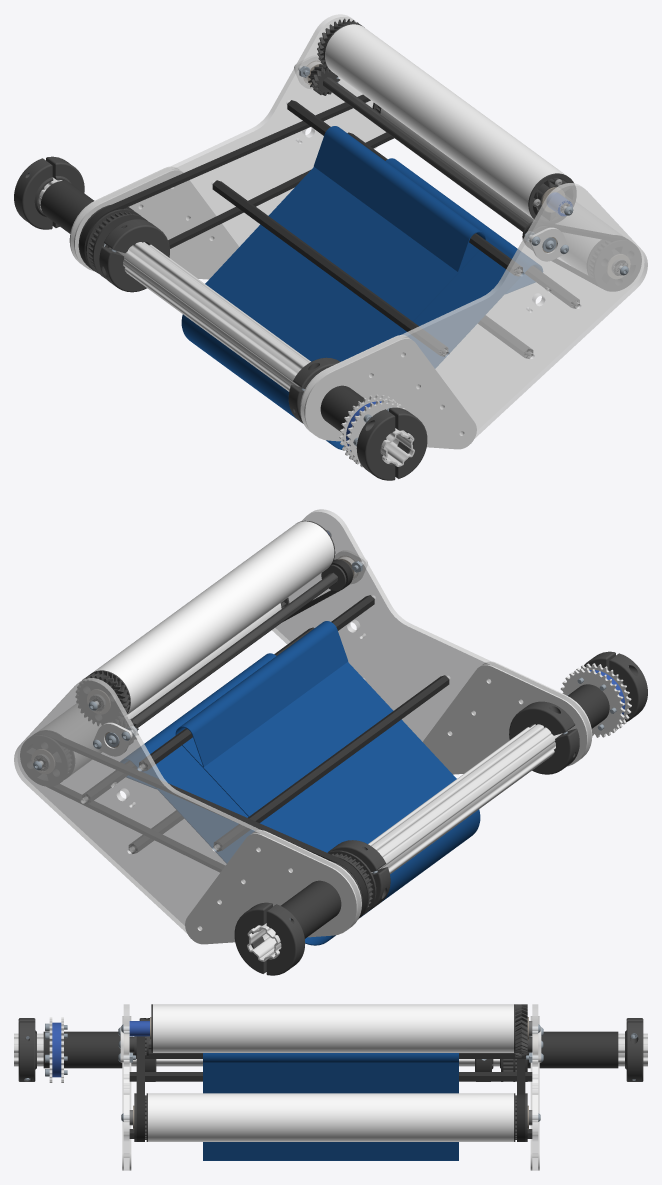
3 views of the same model, one above another, from view 1: azimuth 30°, elevation 25°; view 2: azimuth 150°, elevation 25°; view 3: azimuth 270°, elevation 25° (orthographic). The views are drawn at different scales.
Parts seen in each view (by area): view 1: Fabric Retainer, Side plate (×2), Reinforcement Plates (×4), Cylinder Roller 2, MAXSpline Shaft 26", 3D Printed Shaft Collar (×6), Shaft (×4), 160t 5mm Belt, 3/8" ThunderHex - 17.125", Cylinder Roller 1, Spacer (Configurable) (×3), 217-9038-004public (+5 smaller); view 2: Fabric Retainer, Side plate (×2), Reinforcement Plates (×4), Cylinder Roller 2, MAXSpline Shaft 26", 3D Printed Shaft Collar (×6), Shaft (×3), 160t 5mm Belt, 3/8" ThunderHex - 17.125", Cylinder Roller 1, Spacer (Configurable) (×3), Printing Jan 29 Roller gear (+4 smaller); view 3: Cylinder Roller 1, Cylinder Roller 2, Fabric Retainer, Spacer (Configurable) (×6), Side plate (×2), 3D Printed Shaft Collar (×2), Shaft (×2), MAXSpline Shaft 26", 60t 5mm Belt, 160t 5mm Belt, Printing Jan 29 Roller gear, Part 2 (+2 smaller).
Part boxes in pixels (bbox=[...]): Fabric Retainer: bbox=[181, 126, 542, 449]; Side plate (×2): bbox=[70, 14, 647, 438]; Reinforcement Plates (×4): bbox=[69, 166, 476, 449]; Cylinder Roller 2: bbox=[325, 24, 566, 219]; MAXSpline Shaft 26": bbox=[38, 177, 414, 466]; 3D Printed Shaft Collar (×6): bbox=[14, 156, 427, 480]; Shaft (×4): bbox=[212, 100, 579, 358]; 160t 5mm Belt: bbox=[79, 94, 394, 272]; 3/8" ThunderHex - 17.125": bbox=[323, 77, 529, 231]; Cylinder Roller 1: bbox=[380, 108, 621, 274]; Spacer (Configurable) (×3): bbox=[44, 183, 361, 429]; 217-9038-004public: bbox=[589, 240, 641, 291]; Fabric Retainer: bbox=[120, 621, 480, 945]; Side plate (×2): bbox=[14, 509, 591, 933]; Reinforcement Plates (×4): bbox=[185, 661, 592, 944]; Cylinder Roller 2: bbox=[93, 521, 334, 714]; MAXSpline Shaft 26": bbox=[247, 724, 569, 961]; 3D Printed Shaft Collar (×6): bbox=[234, 653, 647, 975]; Shaft (×3): bbox=[82, 595, 449, 851]; 160t 5mm Belt: bbox=[32, 731, 367, 919]; 3/8" ThunderHex - 17.125": bbox=[132, 572, 337, 727]; Cylinder Roller 1: bbox=[40, 603, 281, 774]; Spacer (Configurable) (×3): bbox=[285, 688, 604, 934]; Printing Jan 29 Roller gear: bbox=[76, 671, 129, 725]; Cylinder Roller 1: bbox=[148, 1093, 513, 1141]; Cylinder Roller 2: bbox=[153, 1004, 513, 1052]; Fabric Retainer: bbox=[203, 1053, 458, 1160]; Spacer (Configurable) (×6): bbox=[64, 1031, 612, 1068]; Side plate (×2): bbox=[123, 1004, 538, 1170]; 3D Printed Shaft Collar (×2): bbox=[18, 1022, 643, 1081]; Shaft (×2): bbox=[129, 1049, 532, 1081]; MAXSpline Shaft 26": bbox=[14, 1033, 647, 1066]; 60t 5mm Belt: bbox=[136, 1036, 144, 1141]; 160t 5mm Belt: bbox=[517, 1059, 525, 1141]; Printing Jan 29 Roller gear: bbox=[515, 1004, 527, 1052]; Part 2: bbox=[52, 1022, 61, 1077].
Size of the model in its own units: 0.3667 by 0.2596 by 0.6604.
